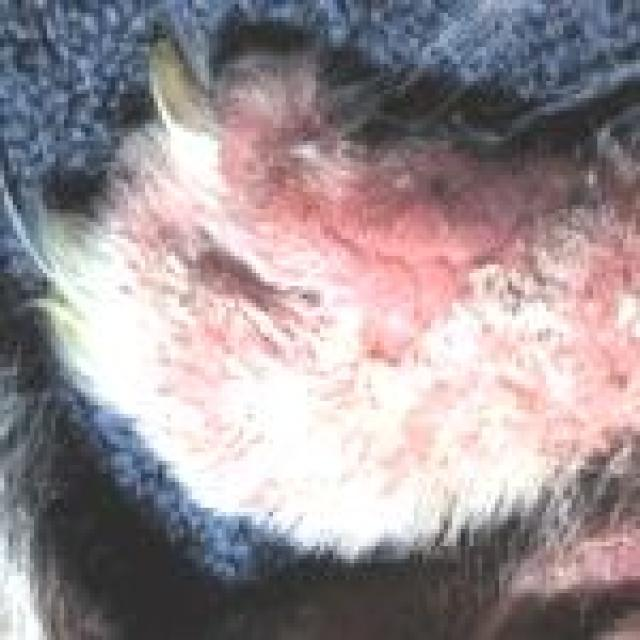fungal infection: (471, 201, 640, 337), (266, 277, 356, 366), (123, 227, 211, 310), (439, 401, 520, 466), (393, 313, 469, 373), (351, 373, 400, 421)
